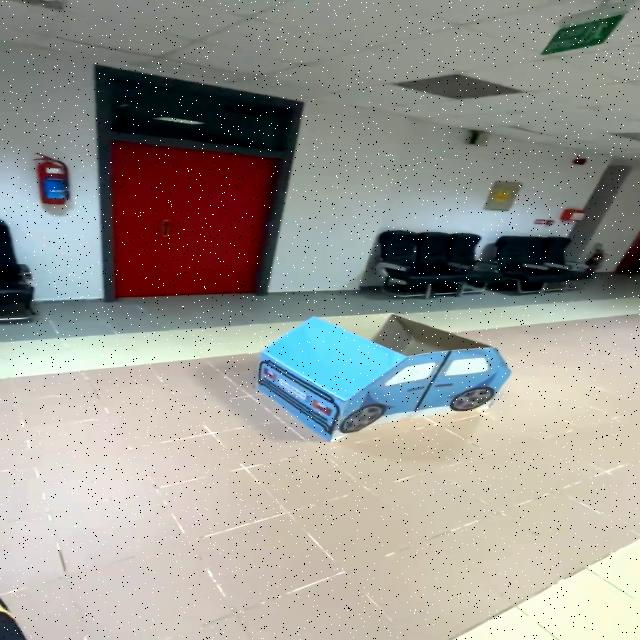blue_car: (232, 309, 532, 441)
